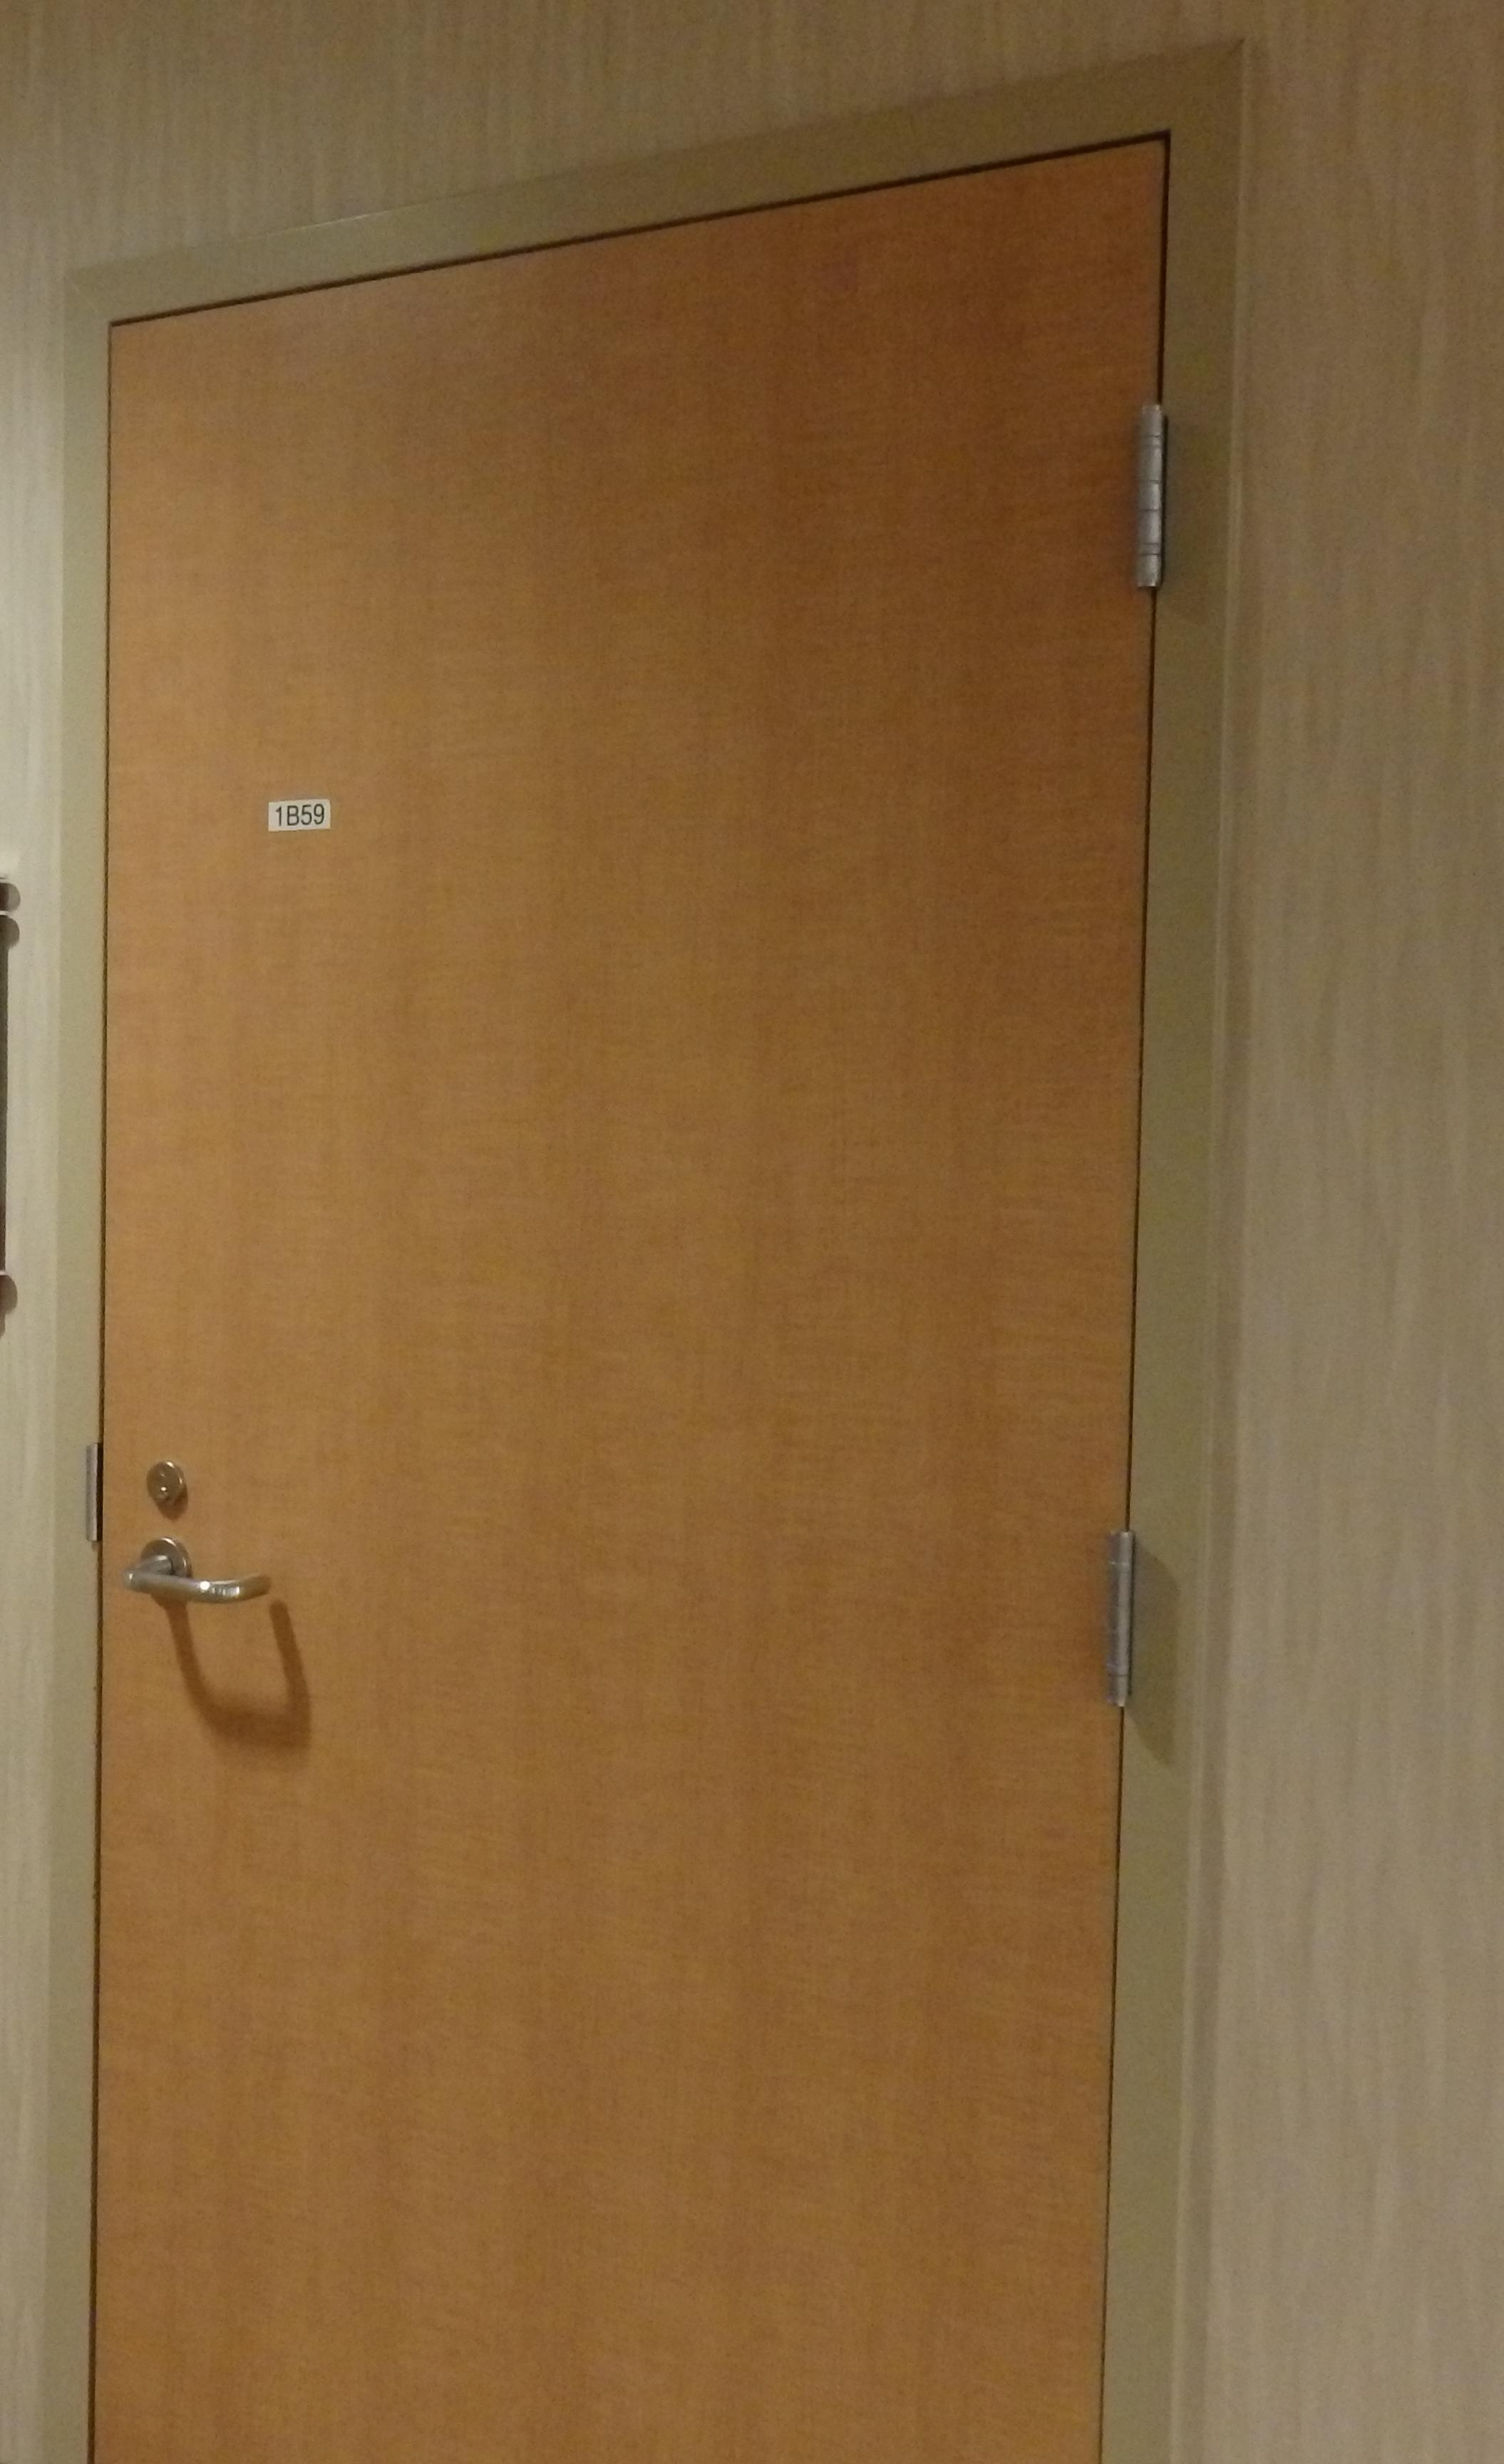door: (39, 100, 1201, 2457)
